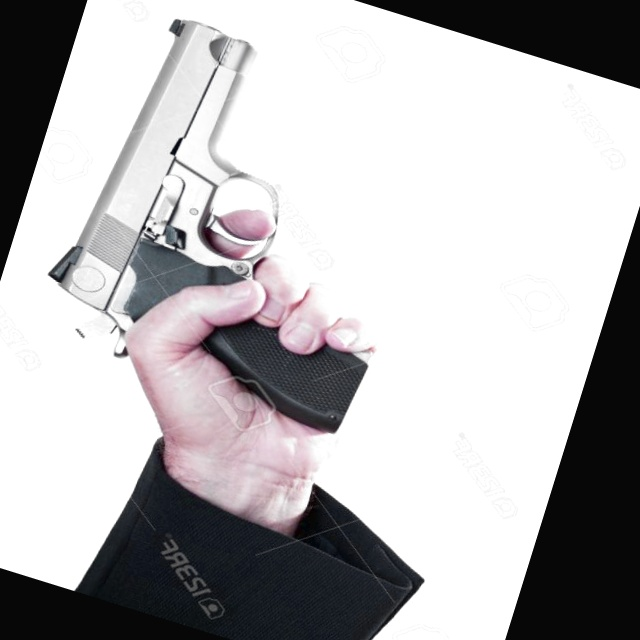gun: (0, 0, 488, 509)
